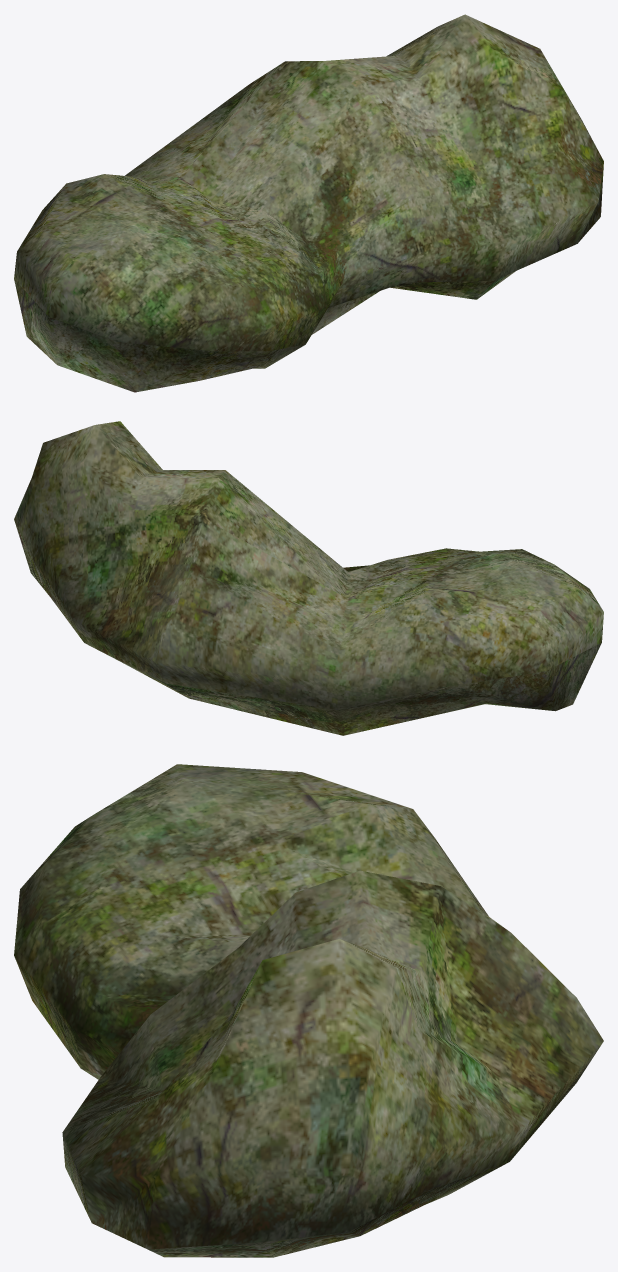
The model's file is stone_08.FBX.
3 renders of one model, top to bottom at view 1: azimuth 30°, elevation 25°; view 2: azimuth 150°, elevation 25°; view 3: azimuth 270°, elevation 25°, orthographic. The views are drawn at different scales.
Visible parts, largest first — view 1: stone_08_01; view 2: stone_08_01; view 3: stone_08_01.
Part boxes in pixels (x1,y1,x2,y2): stone_08_01: (14,14,603,392); stone_08_01: (14,421,603,735); stone_08_01: (14,764,603,1257).
Size of the model in its own units: 3.23 by 1.37 by 1.97.
